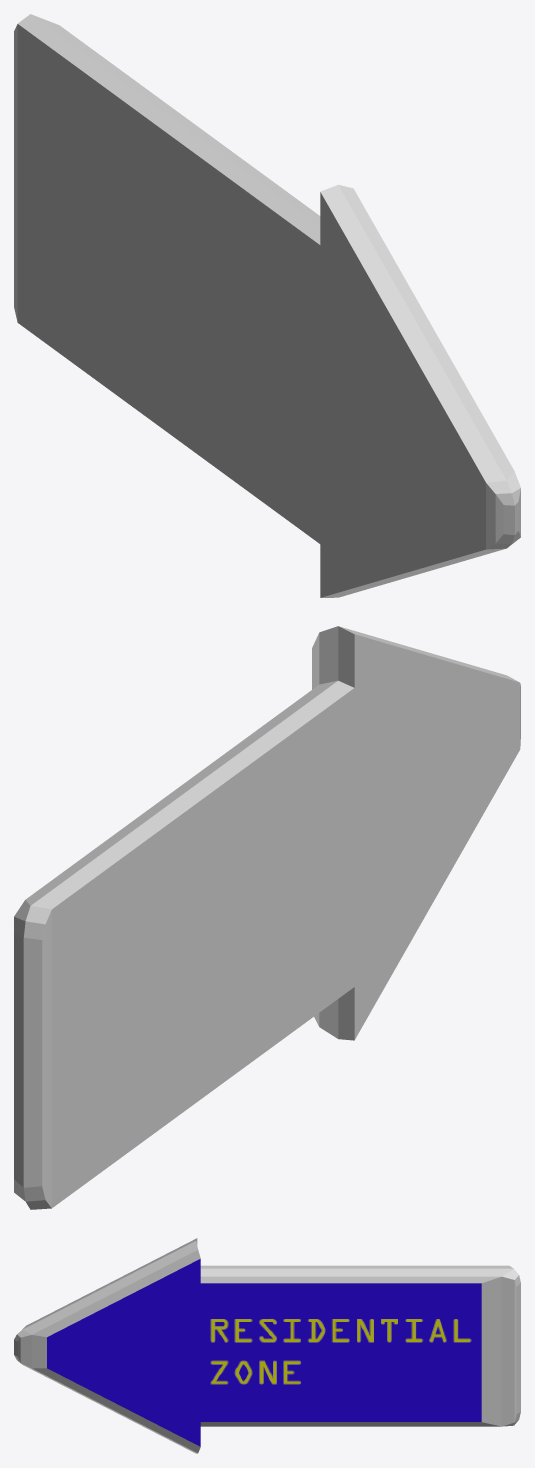
Rendered from señal_residencia_en.fbx.
The picture shows the model from 3 angles, top to bottom: view 1: azimuth 30°, elevation 25°; view 2: azimuth 150°, elevation 25°; view 3: azimuth 270°, elevation 25°; orthographic projection. The views are drawn at different scales.
Visible parts, largest first — view 1: Pointer:Mesh; view 2: Pointer:Mesh; view 3: Pointer:Mesh.
Part boxes in pixels (bbox=[...]): Pointer:Mesh: bbox=[14, 14, 520, 597]; Pointer:Mesh: bbox=[14, 626, 520, 1209]; Pointer:Mesh: bbox=[14, 1238, 520, 1453].
Size of the model in its own units: 0.1567 by 1.59 by 3.42.
3 materials, 1 textured.
